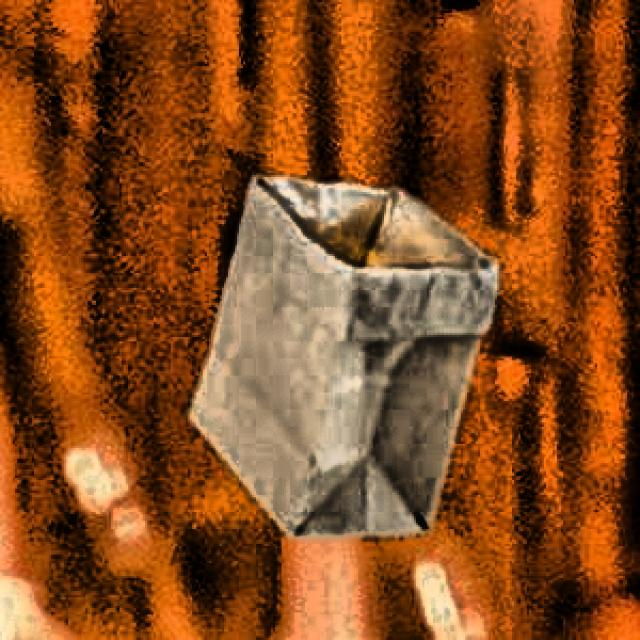Paper-bag: (180, 157, 497, 567)
